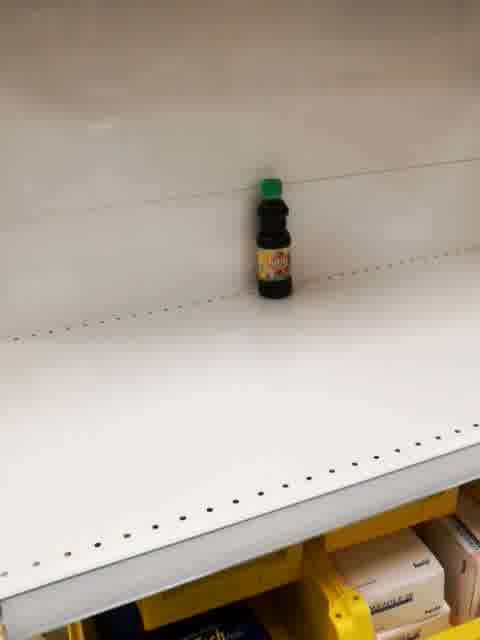cookingoil: (253, 174, 294, 302)
